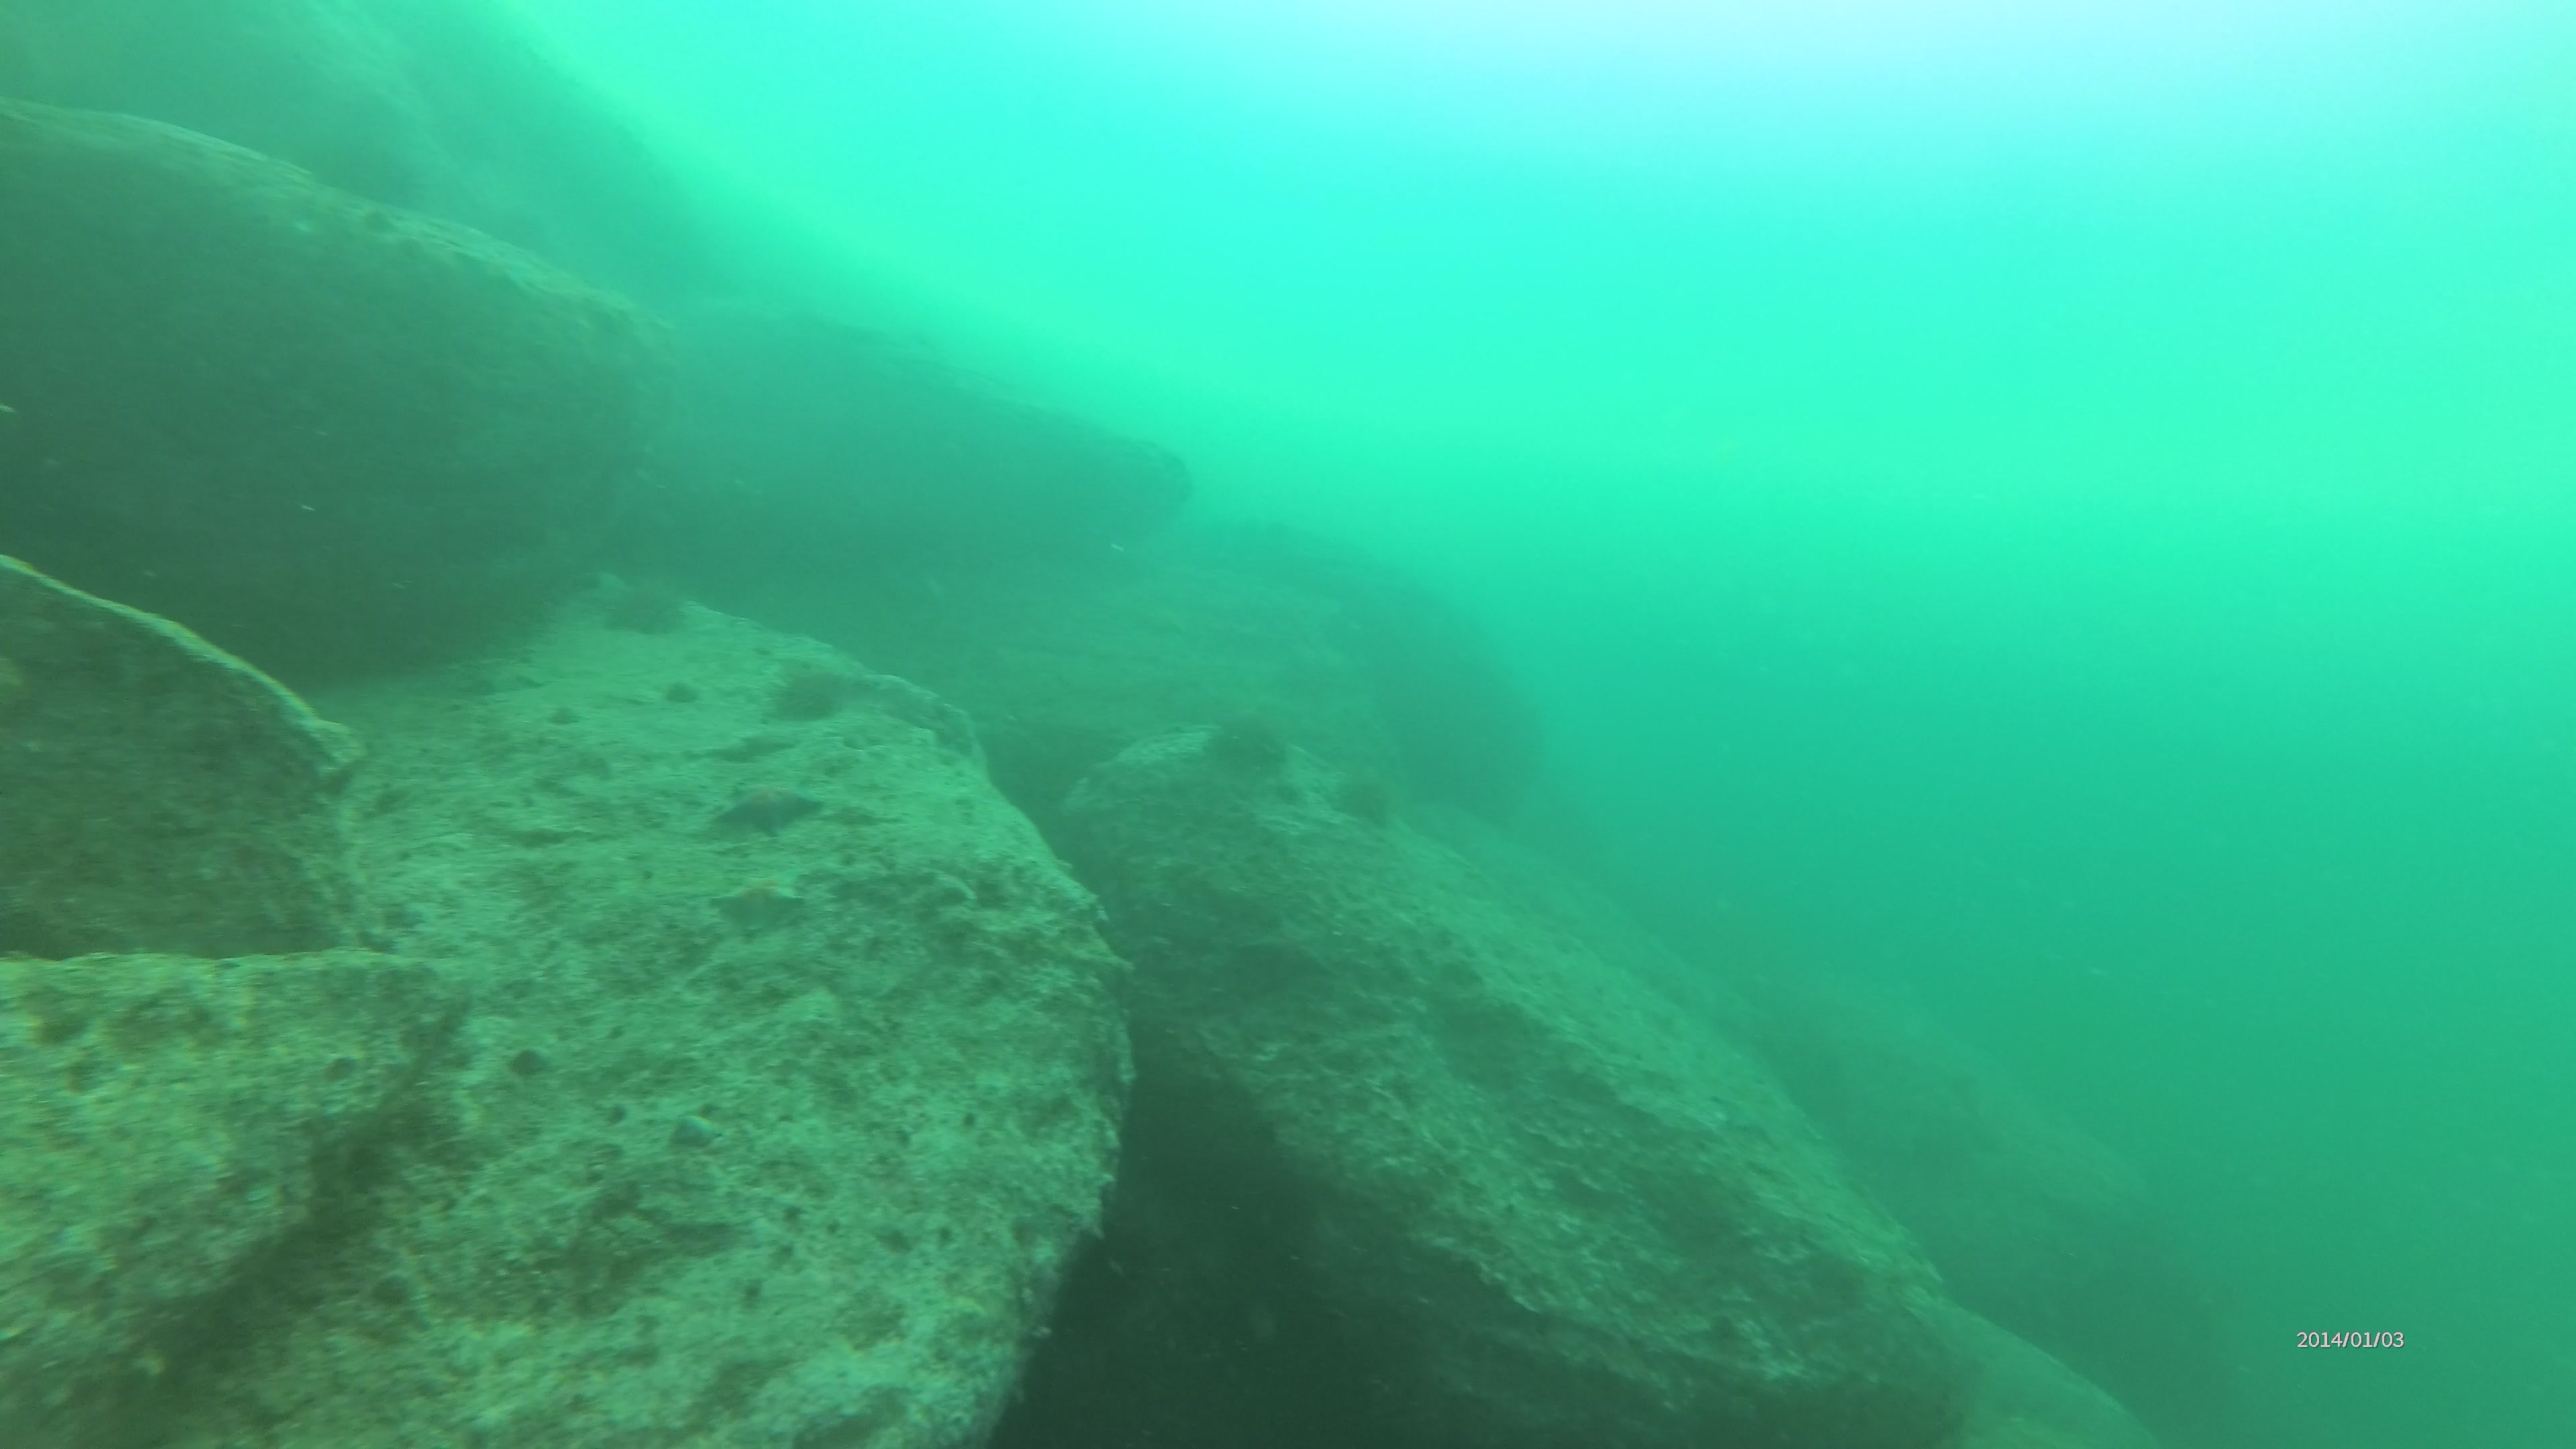echinus: (594, 557, 697, 637), (1201, 711, 1299, 778), (775, 665, 858, 725), (1330, 770, 1399, 830)
starfish: (724, 766, 832, 844), (708, 862, 810, 934)
